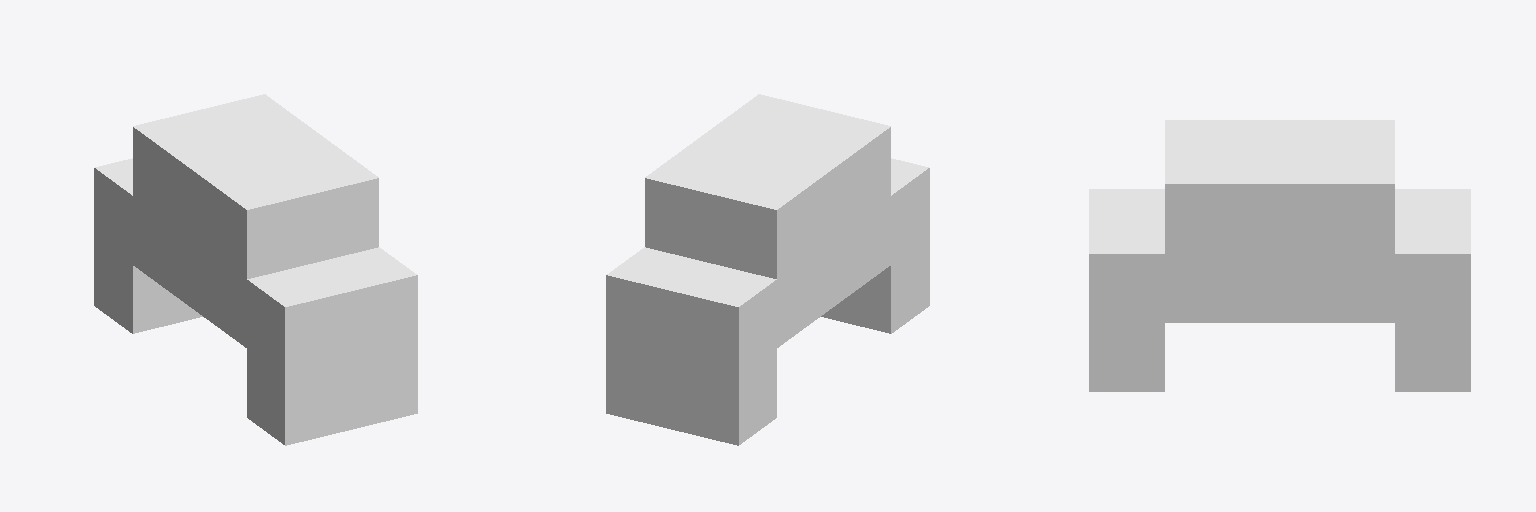
Rendered from rez5.obj.
3 renders of one model, left to right at view 1: azimuth 30°, elevation 25°; view 2: azimuth 150°, elevation 25°; view 3: azimuth 270°, elevation 25°, orthographic.
Visible parts, largest first — view 1: object 1; view 2: object 1; view 3: object 1.
Boxes of the visible parts, <box> form: object 1: <box>94,94,417,445</box>; object 1: <box>606,94,929,445</box>; object 1: <box>1089,120,1470,391</box>.
Size of the model in its own units: 0.2 by 0.3 by 0.5.